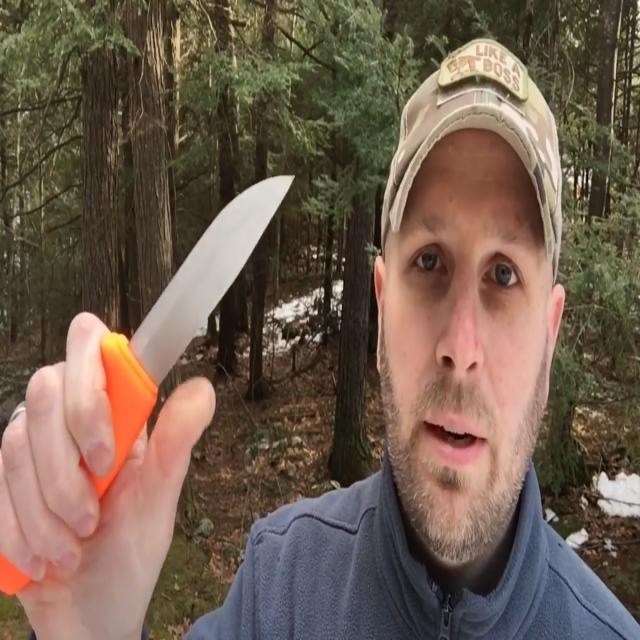knife: (81, 167, 303, 453)
